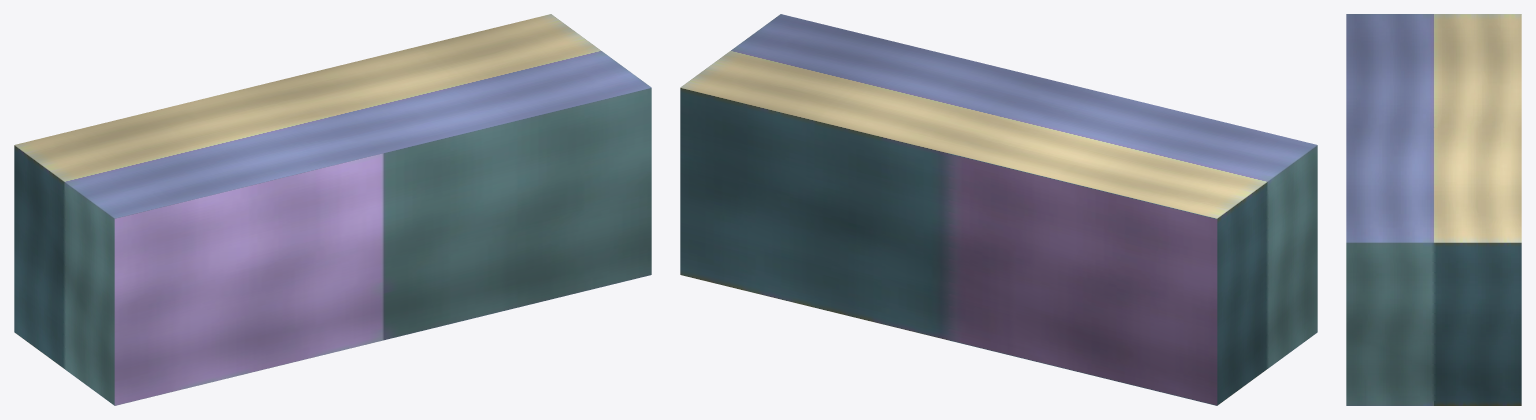
File: log.glb
3 renders of one model, left to right at view 1: azimuth 30°, elevation 25°; view 2: azimuth 150°, elevation 25°; view 3: azimuth 270°, elevation 25°, orthographic. The views are drawn at different scales.
Parts seen in each view (by area): view 1: col; view 2: col; view 3: col.
Boxes of the visible parts, x1,y1,x2,y2 form: col: [14, 14, 651, 405]; col: [680, 14, 1317, 405]; col: [1346, 14, 1521, 405].
Size of the model in its own units: 2 by 0.667 by 0.6496.
1 material, 1 textured.
